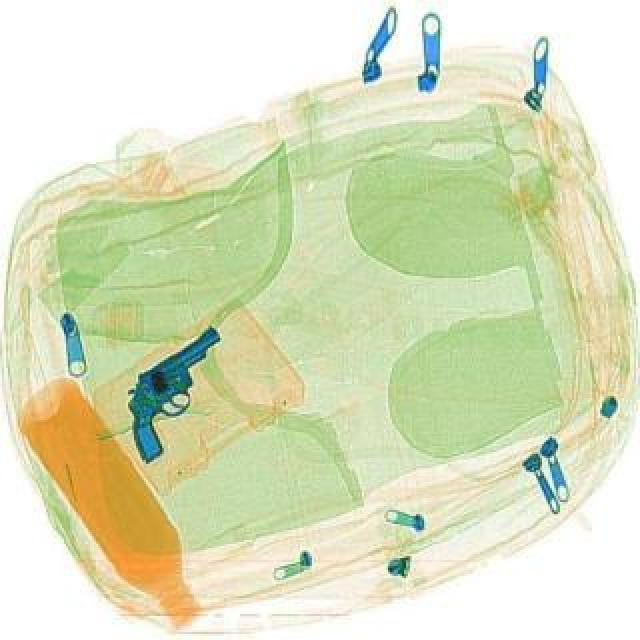gun: (96, 320, 264, 460)
